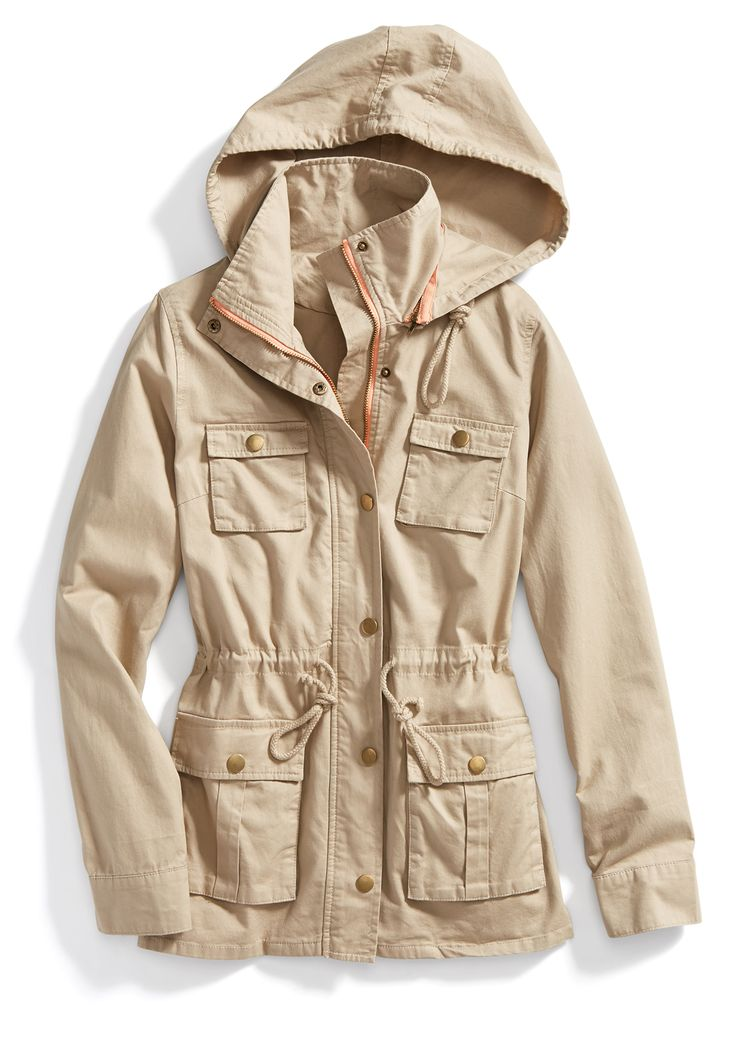outerwear: (48, 8, 709, 1003)
